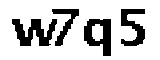5: (118, 5, 151, 50)
7: (54, 6, 79, 48)
q: (82, 16, 115, 60)
w: (7, 17, 57, 51)
